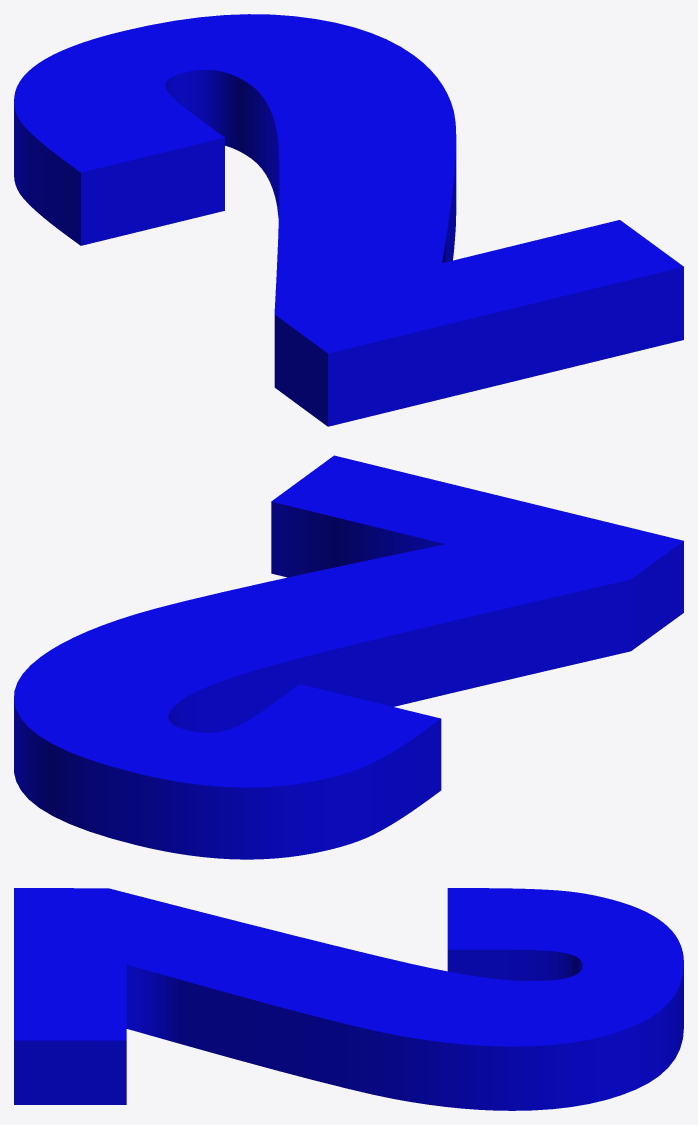
The model's file is Two.FBX.
The picture shows the model from 3 angles, top to bottom: view 1: azimuth 30°, elevation 25°; view 2: azimuth 150°, elevation 25°; view 3: azimuth 270°, elevation 25°; orthographic projection. The views are drawn at different scales.
Parts seen in each view (by area): view 1: Text001; view 2: Text001; view 3: Text001.
Part boxes in pixels (x1,y1,x2,y2): Text001: (14, 14, 683, 426); Text001: (14, 455, 683, 859); Text001: (14, 888, 683, 1110).
Bounding box in the file's own units: 37 × 7 × 66.1.
